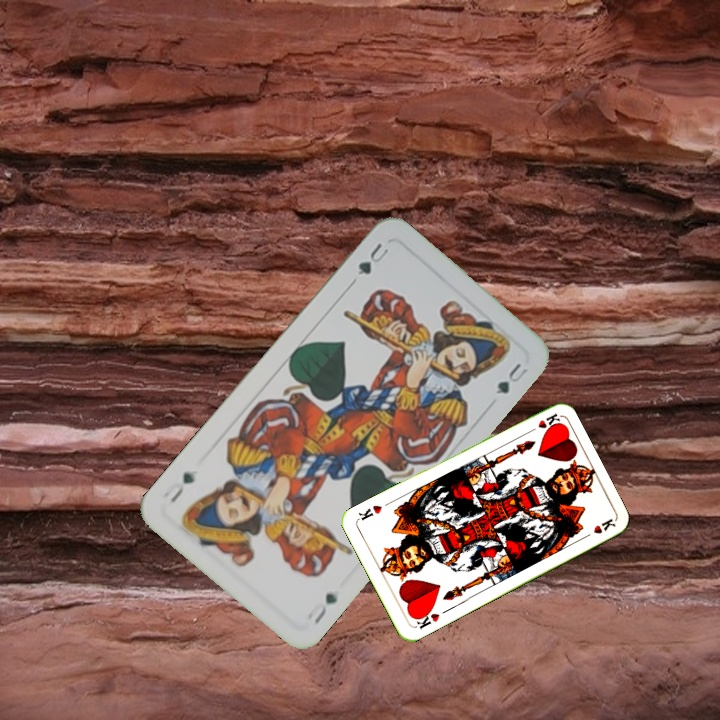GU: (347, 238, 392, 286), (309, 588, 340, 628)
HK: (522, 409, 562, 436), (410, 606, 442, 632)
